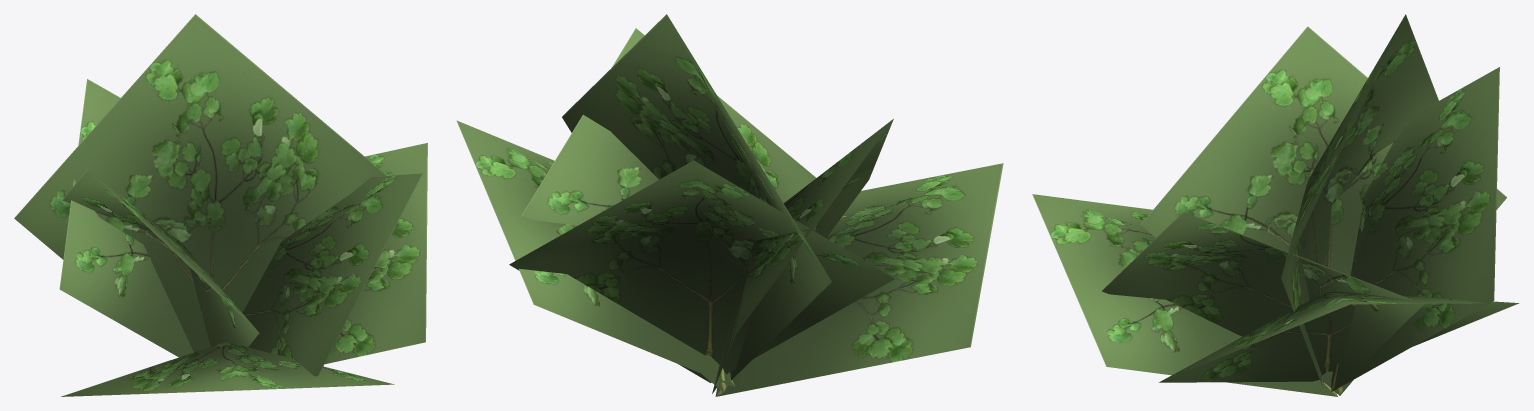
The model's file is bush03_lod01.FBX.
3 renders of one model, left to right at view 1: azimuth 30°, elevation 25°; view 2: azimuth 150°, elevation 25°; view 3: azimuth 270°, elevation 25°, orthographic. The views are drawn at different scales.
Visible parts, largest first — view 1: bush03_lod01; view 2: bush03_lod01; view 3: bush03_lod01.
Part boxes in pixels (left/top/right/bottom): bush03_lod01: left=14, top=14, right=427, bottom=396; bush03_lod01: left=456, top=14, right=1003, bottom=396; bush03_lod01: left=1032, top=14, right=1519, bottom=396.
Bounding box in the file's own units: 96.89 × 80 × 90.83.
Materials: 1 (1 with a texture image).
